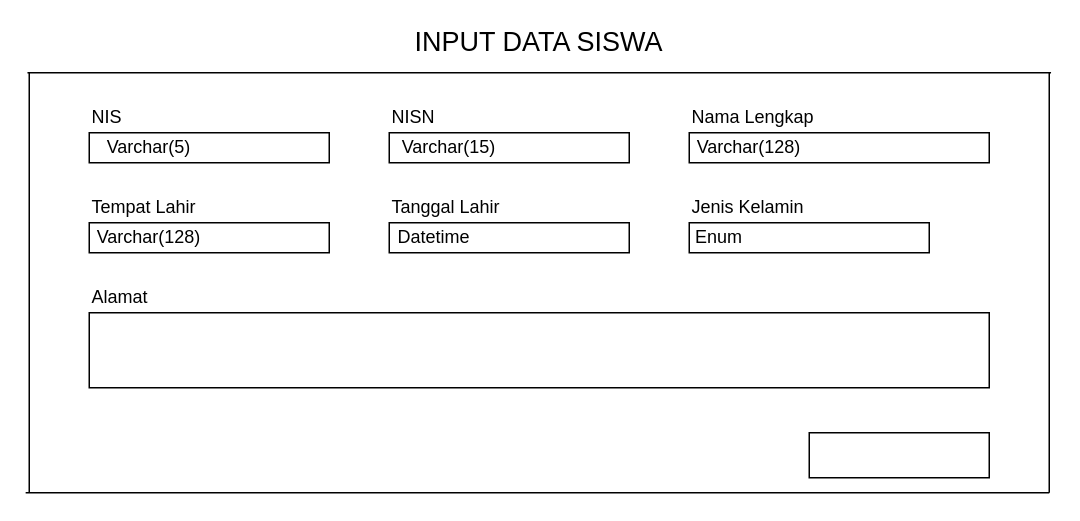
This 1080x521 diagram has some shape labels left out. Each missing label, with the centre of its shape:
"SIMPAN" belongs at [898,454].
"Text" belongs at [538,349].
